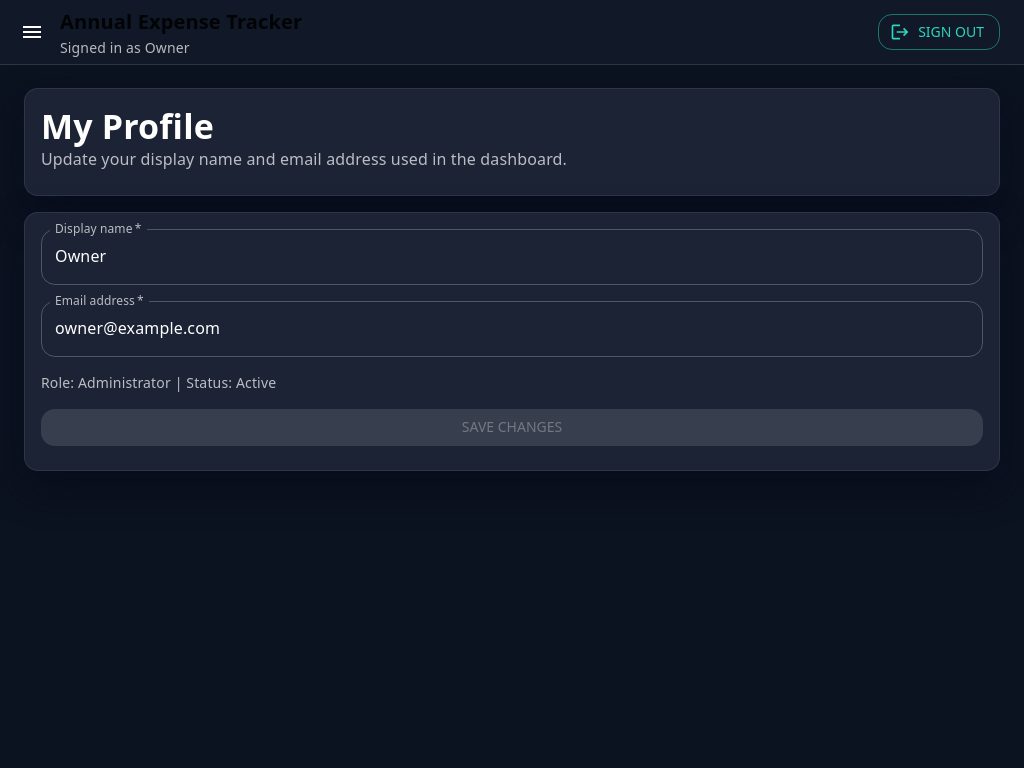
Test: Profile edit flow › allows an authenticated user to update their own profile
Replace the text in the field labelled "Display name *" with "Owner Updated": point(512, 257) [41,229,983,285]
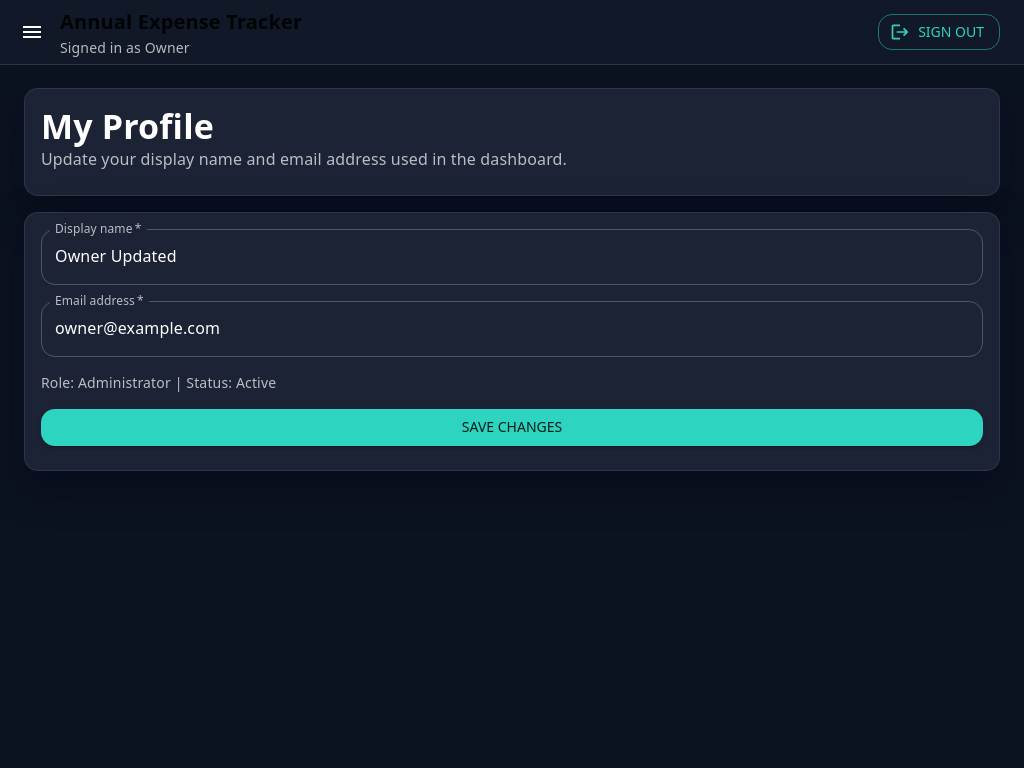
Replace the text in the field labelled "Email address *" with "owner+updated@example.com": point(512, 329) [41,301,983,357]
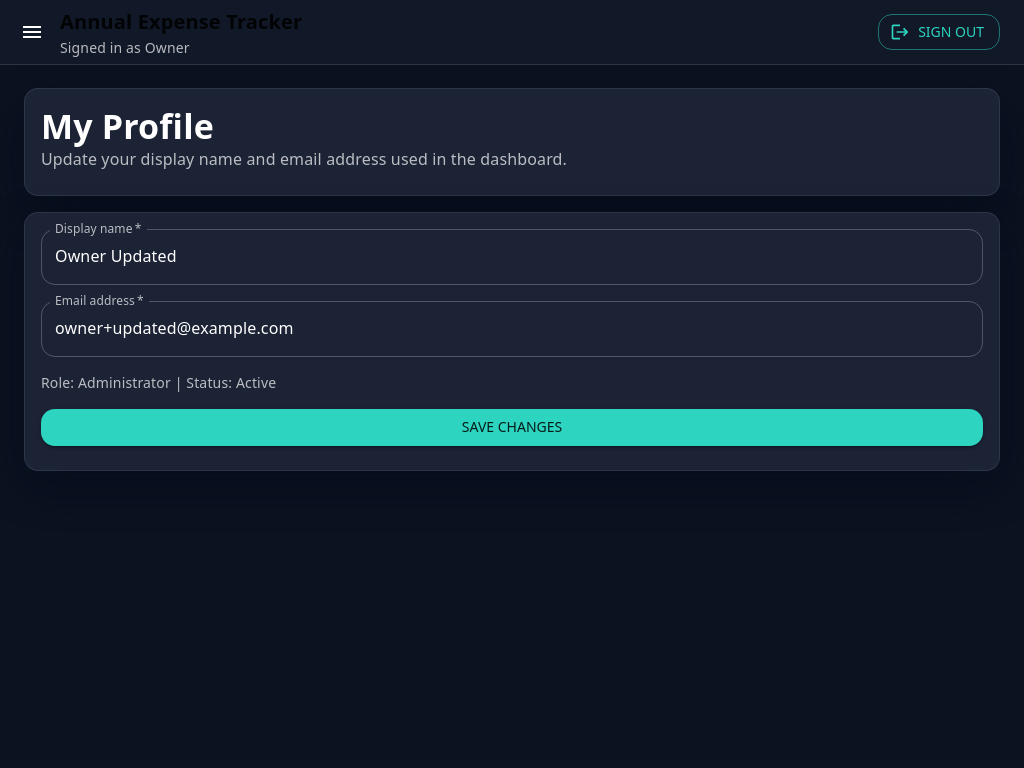
Click the button "Save changes": point(512, 427) [41,409,983,446]
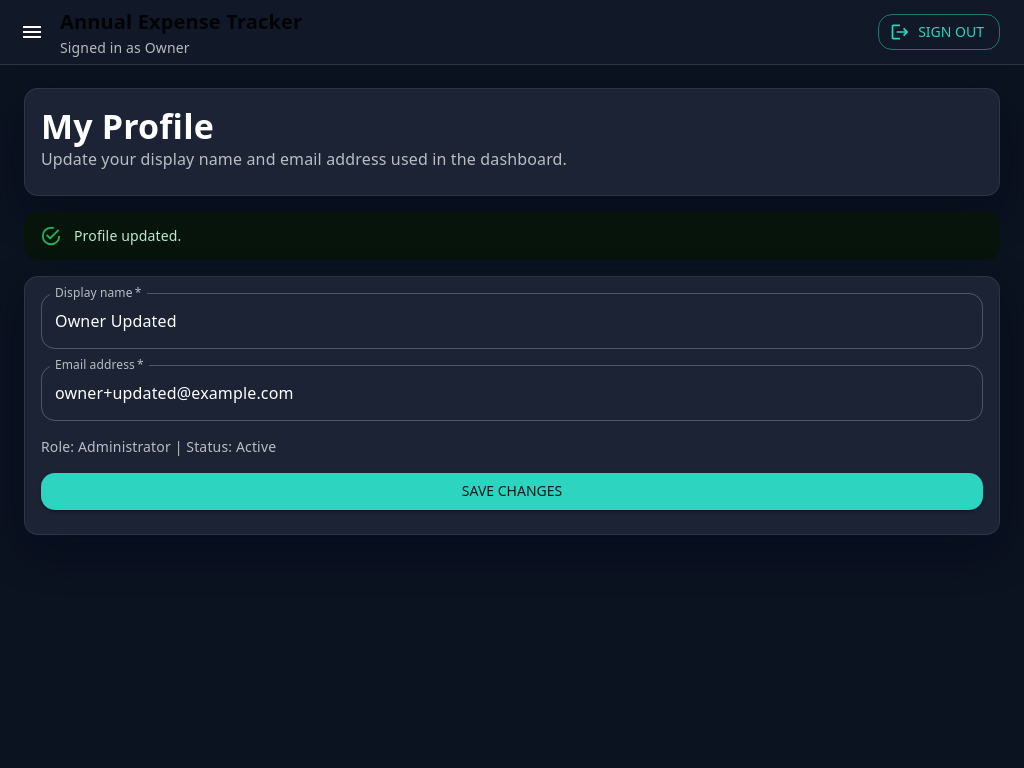
Expected: the text "Profile updated." is shown, [74,226,182,245]
